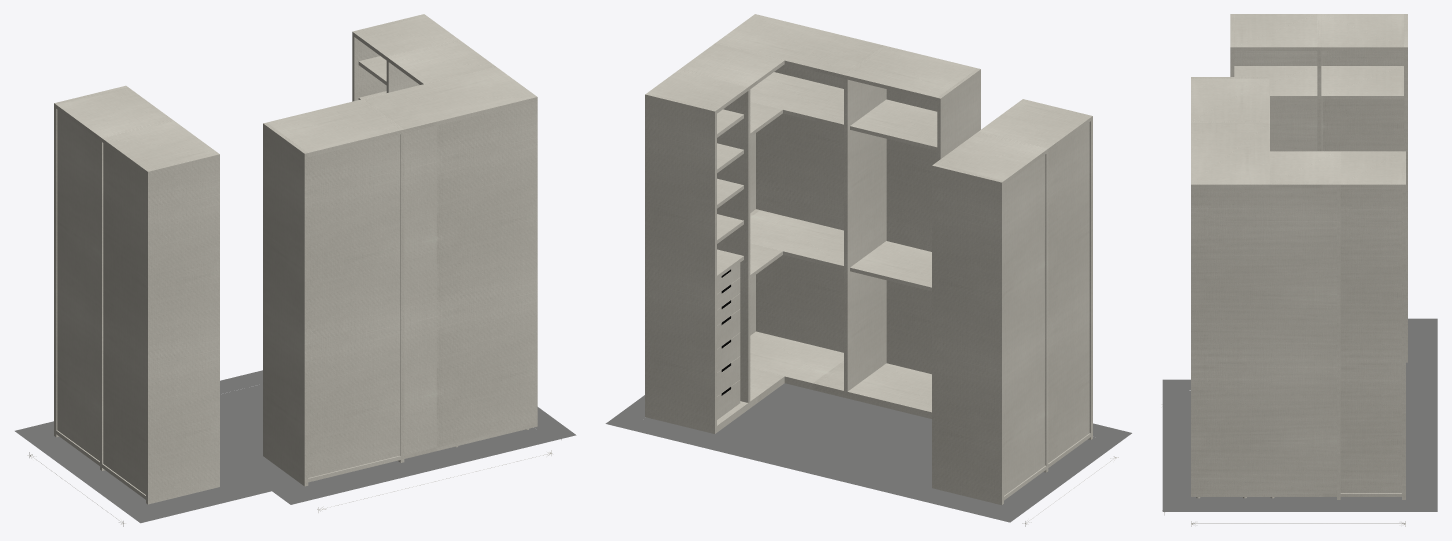
Rendered from B1A-SE-SW-PC-Drawers-TI.obj.
3 renders of one model, left to right at view 1: azimuth 30°, elevation 25°; view 2: azimuth 150°, elevation 25°; view 3: azimuth 270°, elevation 25°, orthographic. The views are drawn at different scales.
Visible parts, largest first — view 1: Mesh53 B1A_SE_SW_PC_DXF1 Model, Mesh80 B1A_SE_SW_PC_DXF1 Model, Mesh1 B1A_SE_SW_PC_DXF1 Model, Mesh31 B1A_SE_SW_PC_DXF1 Model, Mesh89 B1A_SE_SW_PC_DXF1 Model, Mesh20 B1A_SE_SW_PC_DXF1 Model, Mesh6 B1A_SE_SW_PC_DXF1 Model, Mesh97 B1A_SE_SW_PC_DXF1 Model, Mesh5 B1A_SE_SW_PC_DXF1 Model, Mesh96 B1A_SE_SW_PC_DXF1 Model; view 2: Mesh31 B1A_SE_SW_PC_DXF1 Model, Mesh5 B1A_SE_SW_PC_DXF1 Model, Mesh53 B1A_SE_SW_PC_DXF1 Model, Mesh96 B1A_SE_SW_PC_DXF1 Model, Mesh6 B1A_SE_SW_PC_DXF1 Model, Mesh20 B1A_SE_SW_PC_DXF1 Model, Mesh80 B1A_SE_SW_PC_DXF1 Model, Mesh97 B1A_SE_SW_PC_DXF1 Model, Mesh46 B1A_SE_SW_PC_DXF1 Model, Mesh62 B1A_SE_SW_PC_DXF1 Model, Mesh60 B1A_SE_SW_PC_DXF1 Model, Mesh85 B1A_SE_SW_PC_DXF1 Model (+7 smaller); view 3: Mesh53 B1A_SE_SW_PC_DXF1 Model, Mesh34 B1A_SE_SW_PC_DXF1 Model, Mesh31 B1A_SE_SW_PC_DXF1 Model, Mesh97 B1A_SE_SW_PC_DXF1 Model, Mesh5 B1A_SE_SW_PC_DXF1 Model, Mesh20 B1A_SE_SW_PC_DXF1 Model, Mesh6 B1A_SE_SW_PC_DXF1 Model, Mesh21 B1A_SE_SW_PC_DXF1 Model, Mesh10 B1A_SE_SW_PC_DXF1 Model, Mesh96 B1A_SE_SW_PC_DXF1 Model, Mesh46 B1A_SE_SW_PC_DXF1 Model.
Part boxes in pixels (x1,y1,x2,y2): Mesh53 B1A_SE_SW_PC_DXF1 Model: (404, 101, 537, 455); Mesh80 B1A_SE_SW_PC_DXF1 Model: (308, 134, 400, 477); Mesh1 B1A_SE_SW_PC_DXF1 Model: (146, 153, 219, 504); Mesh31 B1A_SE_SW_PC_DXF1 Model: (267, 14, 537, 462); Mesh89 B1A_SE_SW_PC_DXF1 Model: (263, 122, 308, 486); Mesh20 B1A_SE_SW_PC_DXF1 Model: (57, 109, 99, 460); Mesh6 B1A_SE_SW_PC_DXF1 Model: (103, 143, 145, 494); Mesh97 B1A_SE_SW_PC_DXF1 Model: (15, 370, 576, 523); Mesh5 B1A_SE_SW_PC_DXF1 Model: (54, 85, 217, 470); Mesh96 B1A_SE_SW_PC_DXF1 Model: (53, 384, 537, 506); Mesh31 B1A_SE_SW_PC_DXF1 Model: (645, 14, 976, 433); Mesh5 B1A_SE_SW_PC_DXF1 Model: (932, 100, 1090, 505); Mesh53 B1A_SE_SW_PC_DXF1 Model: (750, 64, 843, 352); Mesh96 B1A_SE_SW_PC_DXF1 Model: (643, 383, 1094, 506); Mesh6 B1A_SE_SW_PC_DXF1 Model: (1048, 122, 1089, 462); Mesh20 B1A_SE_SW_PC_DXF1 Model: (1004, 155, 1045, 495); Mesh80 B1A_SE_SW_PC_DXF1 Model: (886, 89, 937, 374); Mesh97 B1A_SE_SW_PC_DXF1 Model: (605, 395, 1131, 522); Mesh46 B1A_SE_SW_PC_DXF1 Model: (750, 331, 843, 400); Mesh62 B1A_SE_SW_PC_DXF1 Model: (750, 209, 843, 269); Mesh60 B1A_SE_SW_PC_DXF1 Model: (750, 72, 843, 128); Mesh85 B1A_SE_SW_PC_DXF1 Model: (850, 99, 937, 150); Mesh53 B1A_SE_SW_PC_DXF1 Model: (1191, 188, 1336, 493); Mesh34 B1A_SE_SW_PC_DXF1 Model: (1340, 188, 1401, 492); Mesh31 B1A_SE_SW_PC_DXF1 Model: (1191, 78, 1405, 499); Mesh97 B1A_SE_SW_PC_DXF1 Model: (1162, 318, 1437, 511); Mesh5 B1A_SE_SW_PC_DXF1 Model: (1234, 14, 1407, 362); Mesh20 B1A_SE_SW_PC_DXF1 Model: (1321, 51, 1403, 151); Mesh6 B1A_SE_SW_PC_DXF1 Model: (1234, 51, 1317, 151); Mesh21 B1A_SE_SW_PC_DXF1 Model: (1321, 66, 1403, 99); Mesh10 B1A_SE_SW_PC_DXF1 Model: (1234, 66, 1317, 99); Mesh96 B1A_SE_SW_PC_DXF1 Model: (1189, 330, 1411, 500); Mesh46 B1A_SE_SW_PC_DXF1 Model: (1191, 493, 1336, 496).
Size of the model in its own units: 138 by 109 by 82.19.
4 materials, 1 textured.
